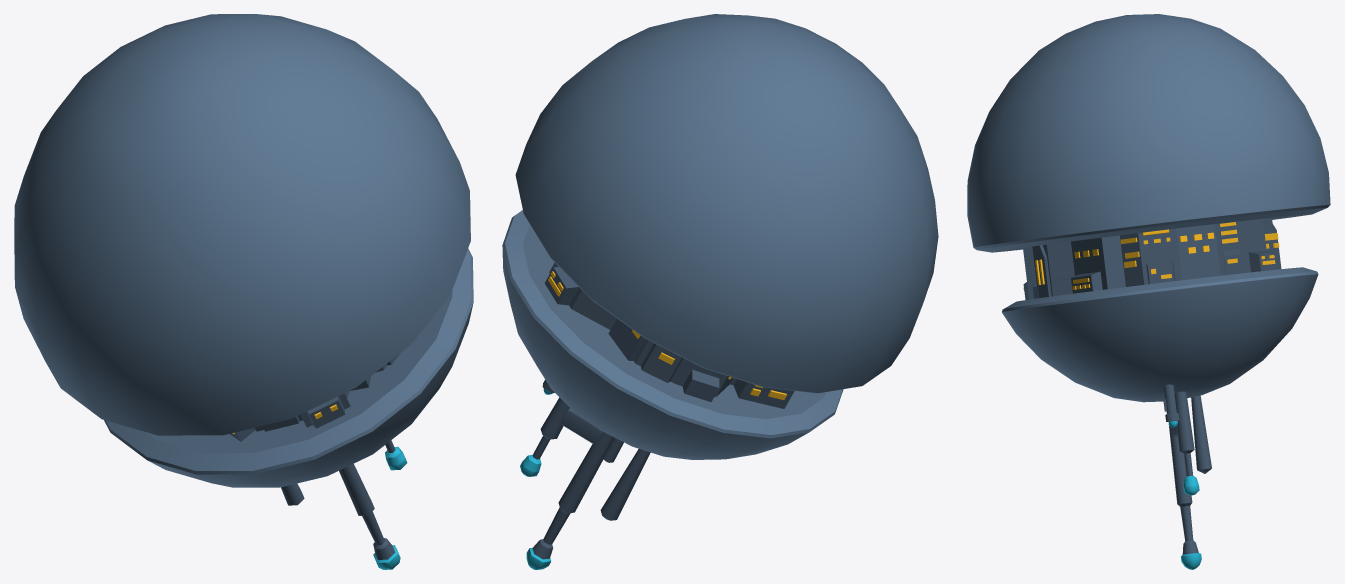
The model's file is Tech_Planet_Star_Wars.fbx.
3 views of the same model, side by side, from view 1: azimuth 30°, elevation 25°; view 2: azimuth 150°, elevation 25°; view 3: azimuth 270°, elevation 25° (orthographic). The views are drawn at different scales.
Parts seen in each view (by area): view 1: Planet_Starwars_Mesh; view 2: Planet_Starwars_Mesh; view 3: Planet_Starwars_Mesh.
Boxes of the visible parts, box(x1,y1,x2,y2) form: Planet_Starwars_Mesh: box(14, 14, 473, 569); Planet_Starwars_Mesh: box(502, 14, 938, 569); Planet_Starwars_Mesh: box(967, 14, 1330, 569).
Bounding box in the file's own units: 5.03 × 7.09 × 4.95.
